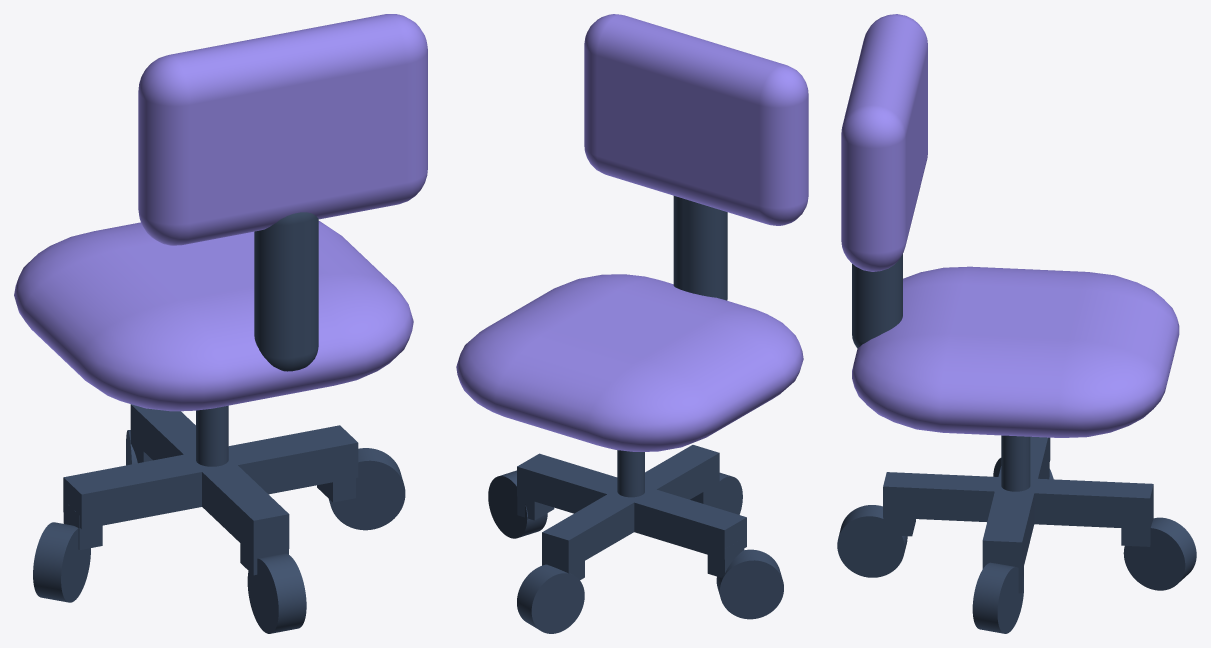
Rendered from chair.glb.
The picture shows the model from 3 angles, left to right: view 1: azimuth 30°, elevation 25°; view 2: azimuth 150°, elevation 25°; view 3: azimuth 270°, elevation 25°; orthographic projection. The views are drawn at different scales.
Parts seen in each view (by area): view 1: Cube 48, Cube 50, Cube 52, Cube 49, Cube 51, Cylinder 16, Cylinder 14, Cylinder 15, Cylinder 12, Cube 53, Cube 56, Cube 54; view 2: Cube 50, Cube 48, Cube 52, Cube 51, Cube 49, Cylinder 15, Cylinder 13, Cylinder 16, Cylinder 12, Cylinder 14, Cube 53, Cube 54; view 3: Cube 50, Cube 48, Cube 51, Cube 52, Cylinder 13, Cylinder 14, Cube 49, Cylinder 16, Cylinder 12, Cube 56, Cube 55.
Part boxes in pixels (x1,y1,x2,y2): Cube 48: (138,14,427,245); Cube 50: (14,221,413,411); Cube 52: (63,425,358,529); Cube 49: (254,212,318,371); Cube 51: (130,404,289,555); Cylinder 16: (329,448,405,530); Cylinder 14: (247,553,306,633); Cylinder 15: (33,522,90,602); Cylinder 12: (196,405,228,466); Cube 53: (63,500,102,550); Cube 56: (240,528,288,575); Cube 54: (317,478,355,502); Cube 50: (456,274,803,451); Cube 48: (584,14,808,225); Cube 52: (517,453,746,559); Cube 51: (542,445,719,569); Cube 49: (673,196,727,300); Cylinder 15: (716,549,783,619); Cylinder 13: (517,564,584,633); Cylinder 16: (488,470,547,538); Cylinder 12: (617,450,644,497); Cylinder 14: (709,472,742,514); Cube 53: (707,538,744,577); Cube 54: (517,496,554,520); Cube 50: (852,266,1179,437); Cube 48: (841,14,927,271); Cube 51: (883,472,1153,528); Cube 52: (982,436,1050,573); Cylinder 13: (1123,517,1196,590); Cylinder 14: (837,505,907,577); Cube 49: (852,254,902,348); Cylinder 16: (972,562,1023,633); Cylinder 12: (1001,435,1030,491); Cube 56: (883,504,915,536); Cube 55: (1121,503,1153,546).
Size of the model in its own units: 0.5081 by 0.788 by 0.4968.
